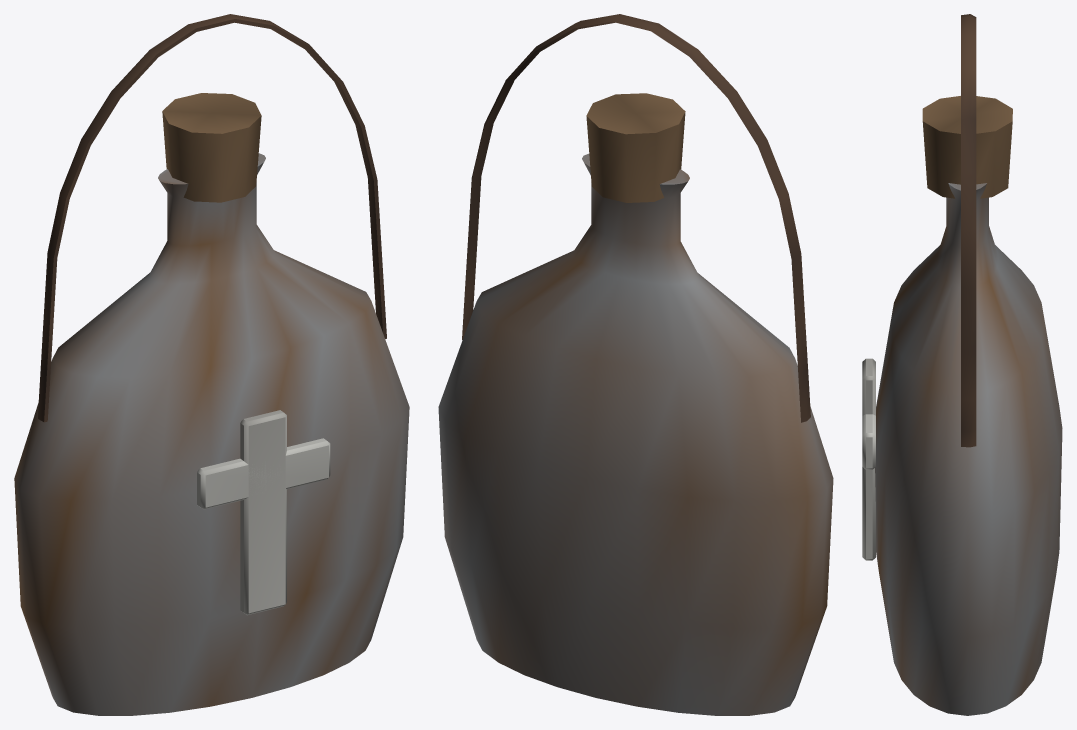
File: holy-water-flask.glb
3 views of the same model, side by side, from view 1: azimuth 30°, elevation 25°; view 2: azimuth 150°, elevation 25°; view 3: azimuth 270°, elevation 25° (orthographic). The views are drawn at different scales.
Parts seen in each view (by area): view 1: holy-water-flask; view 2: holy-water-flask; view 3: holy-water-flask.
Boxes of the visible parts, x1,y1,x2,y2 form: holy-water-flask: (14,14,409,715); holy-water-flask: (438,14,833,715); holy-water-flask: (862,14,1062,715).
Size of the model in its own units: 0.124 by 0.2009 by 0.0589.
